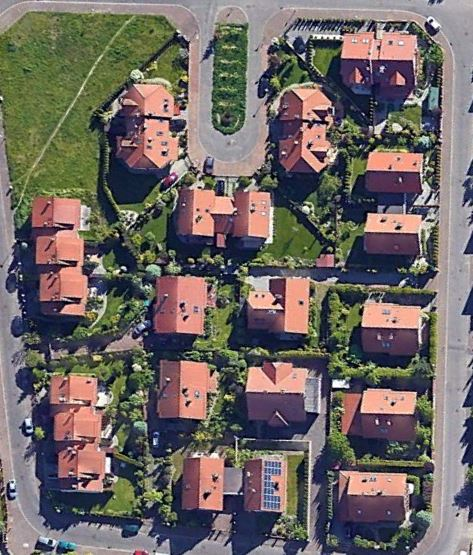family house: (176, 451, 290, 518), (114, 78, 182, 177), (271, 85, 340, 176), (240, 360, 320, 429), (233, 272, 313, 341), (153, 355, 222, 426), (145, 271, 214, 342), (331, 468, 409, 529), (346, 384, 424, 445), (354, 298, 425, 359), (359, 207, 425, 259), (358, 148, 424, 200)
terrace house: (43, 367, 119, 500), (31, 191, 94, 324), (179, 176, 274, 247)
